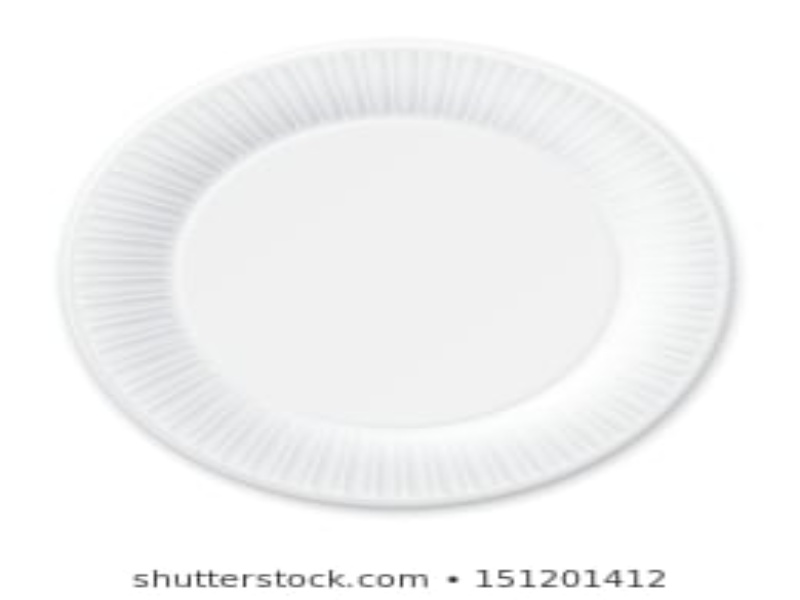plastic-plate: (53, 40, 734, 508)
